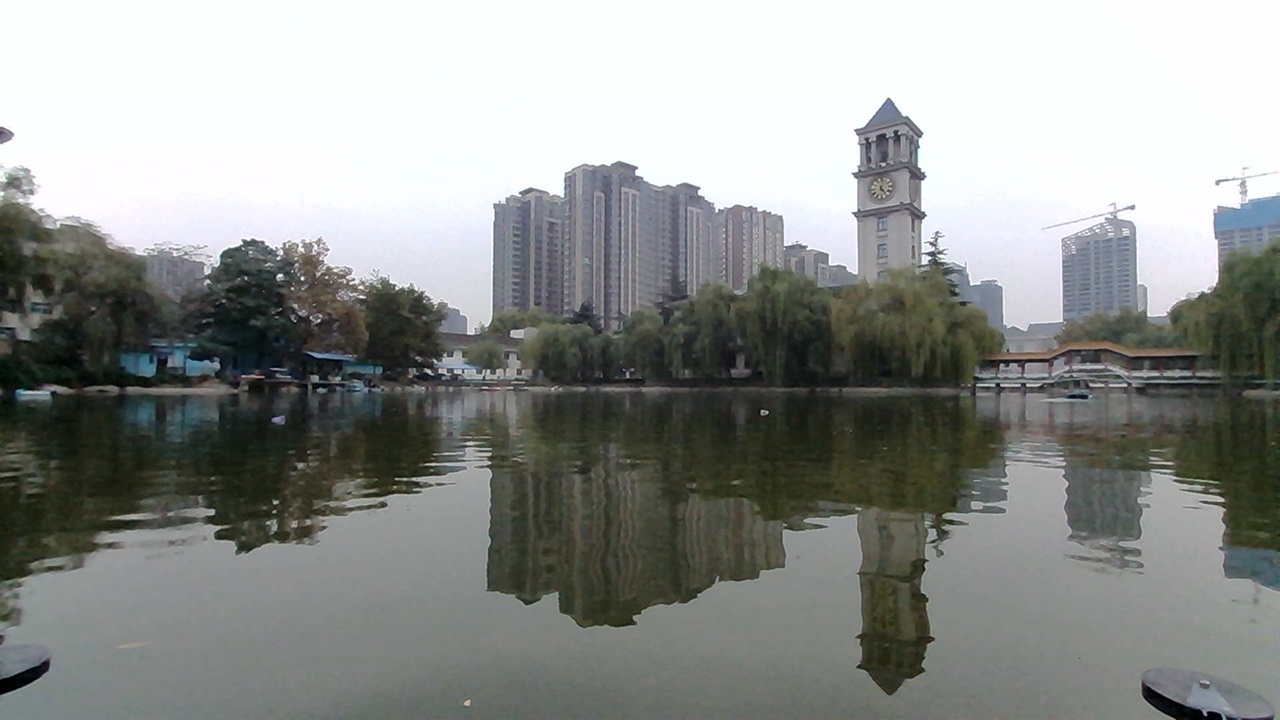bottle: (250, 398, 299, 435), (747, 396, 790, 425)
